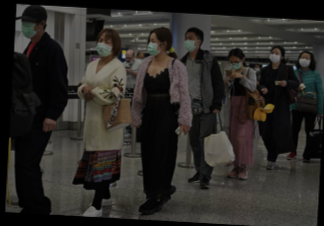mask_weared_incorrect: (123, 55, 132, 64)
with_mask: (19, 20, 39, 39), (95, 36, 113, 57), (146, 37, 161, 56), (182, 34, 198, 51), (227, 58, 242, 69), (298, 55, 311, 67), (268, 50, 281, 62), (252, 65, 259, 72)
